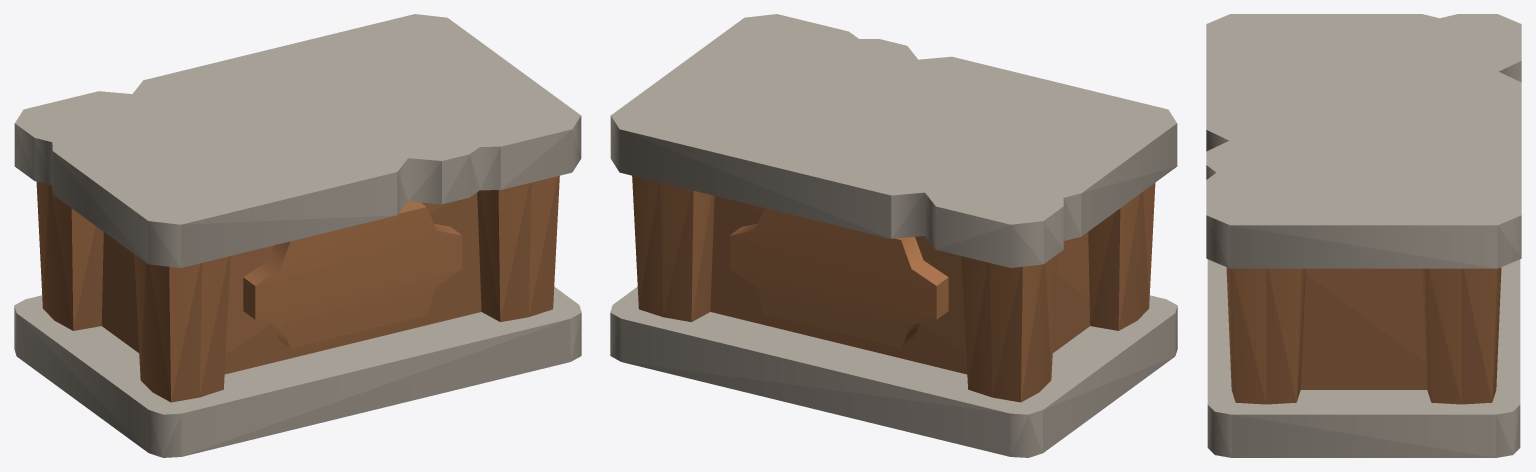
File: kenney_graveyard_altar_wood.glb
3 renders of one model, left to right at view 1: azimuth 30°, elevation 25°; view 2: azimuth 150°, elevation 25°; view 3: azimuth 270°, elevation 25°, orthographic.
Parts seen in each view (by area): view 1: stone, wood; view 2: stone, wood; view 3: stone, wood.
Boxes of the visible parts, x1,y1,x2,y2 form: stone: [14, 14, 581, 457]; wood: [36, 175, 559, 402]; stone: [610, 14, 1177, 457]; wood: [632, 175, 1155, 402]; stone: [1206, 14, 1521, 457]; wood: [1226, 267, 1501, 404].
Size of the model in its own units: 1.05 by 0.5376 by 0.6587.
